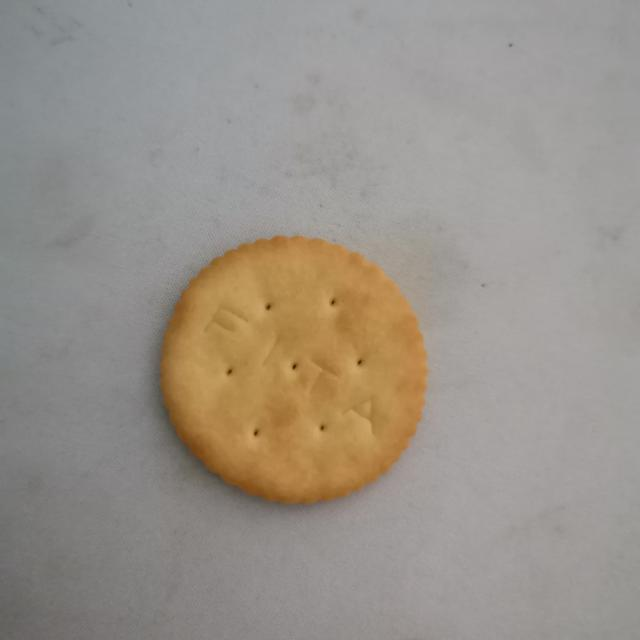Intact: (154, 231, 439, 523)
